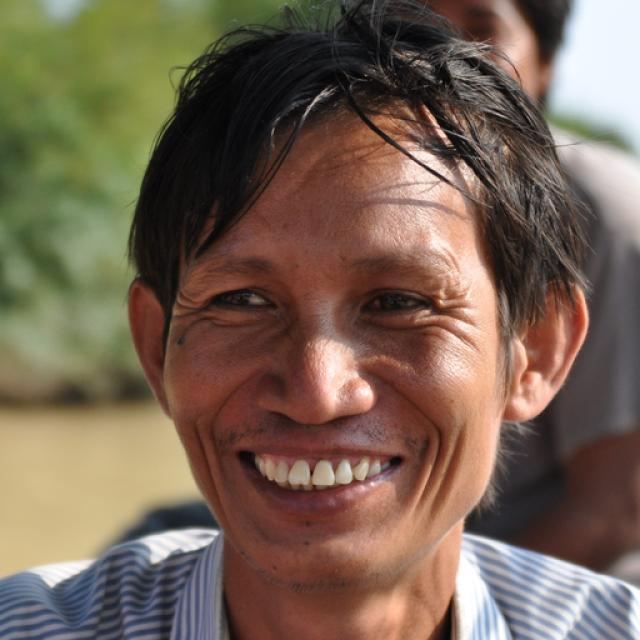happy: (159, 111, 505, 586)
